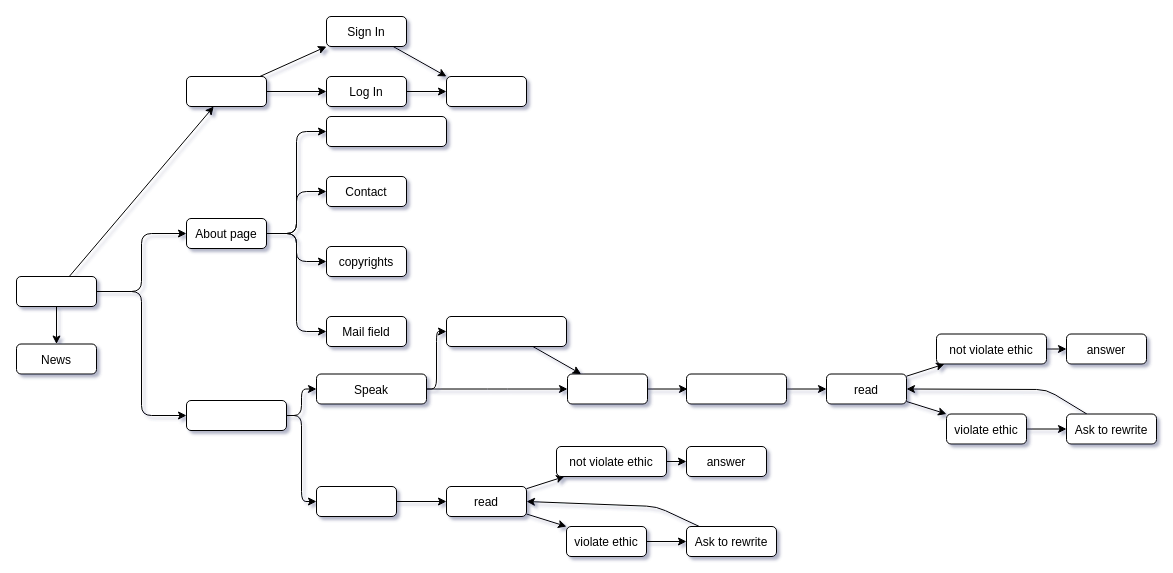
Image size: 1173x573. Some labels were removed from this diagram. The centre of each missing label's shape, as x and y in pixels:
Account: (226,91)
Account page: (486,91)
ask for micro acess: (506,331)
History and values: (386,131)
Home page: (56,291)
MAIA page: (236,415)
Record: (607,388)
Speech to text: (736,388)
Write: (356,501)
